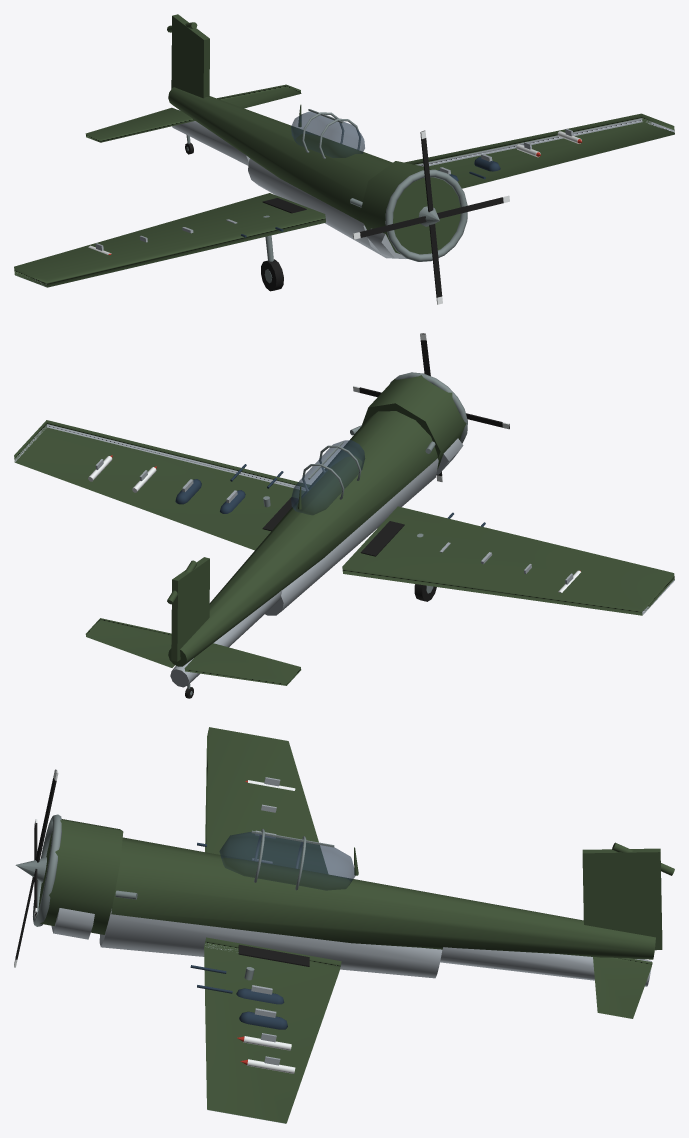
Rendered from a-1-skyraider-spad.glb.
The picture shows the model from 3 angles, top to bottom: view 1: azimuth 30°, elevation 25°; view 2: azimuth 150°, elevation 25°; view 3: azimuth 270°, elevation 25°; orthographic projection. The views are drawn at different scales.
Parts seen in each view (by area): view 1: Mesh_FuselageSpine, Mesh_MainWingRight, Mesh_MainWingLeft, Mesh_CowlBody, Mesh_TailFin, Mesh_FuselageBelly, Mesh_CanopyGlass, Mesh_CowlLip, Mesh_HorizontalTailRight, Mesh_WingUndersideLeft, Mesh_TailConeBelly, Mesh_HorizontalTailLeft (+6 smaller); view 2: Mesh_MainWingRight, Mesh_FuselageSpine, Mesh_MainWingLeft, Mesh_CowlBody, Mesh_FuselageBelly, Mesh_CanopyGlass, Mesh_HorizontalTailRight, Mesh_TailFin, Mesh_HorizontalTailLeft, Mesh_TailConeBelly, Mesh_WingUndersideLeft, Mesh_WingWalkR (+1 smaller); view 3: Mesh_FuselageSpine, Mesh_MainWingLeft, Mesh_MainWingRight, Mesh_FuselageBelly, Mesh_TailFin, Mesh_CowlBody, Mesh_CanopyGlass, Mesh_TailConeBelly, Mesh_HorizontalTailLeft, Mesh_CowlLip, Mesh_CowlBelly, Mesh_WingWalkL.
Boxes of the visible parts, left/top/right/bottom form: Mesh_FuselageSpine: left=168, top=87, right=392, bottom=222; Mesh_MainWingRight: left=14, top=193, right=325, bottom=287; Mesh_MainWingLeft: left=404, top=113, right=674, bottom=188; Mesh_CowlBody: left=359, top=161, right=460, bottom=254; Mesh_TailFin: left=171, top=14, right=209, bottom=98; Mesh_FuselageBelly: left=248, top=158, right=402, bottom=258; Mesh_CanopyGlass: left=291, top=111, right=364, bottom=157; Mesh_CowlLip: left=385, top=169, right=467, bottom=261; Mesh_HorizontalTailRight: left=85, top=107, right=194, bottom=142; Mesh_WingUndersideLeft: left=416, top=118, right=674, bottom=172; Mesh_TailConeBelly: left=172, top=110, right=249, bottom=165; Mesh_HorizontalTailLeft: left=217, top=84, right=301, bottom=108; Mesh_MainWingRight: left=342, top=506, right=674, bottom=615; Mesh_FuselageSpine: left=168, top=411, right=437, bottom=666; Mesh_MainWingLeft: left=14, top=420, right=310, bottom=550; Mesh_CowlBody: left=362, top=375, right=466, bottom=469; Mesh_FuselageBelly: left=265, top=458, right=438, bottom=615; Mesh_CanopyGlass: left=291, top=440, right=364, bottom=514; Mesh_HorizontalTailRight: left=184, top=643, right=301, bottom=685; Mesh_TailFin: left=171, top=557, right=209, bottom=661; Mesh_HorizontalTailLeft: left=85, top=618, right=174, bottom=667; Mesh_TailConeBelly: left=170, top=590, right=281, bottom=687; Mesh_WingUndersideLeft: left=15, top=424, right=305, bottom=490; Mesh_WingWalkR: left=360, top=521, right=404, bottom=556; Mesh_FuselageSpine: left=111, top=837, right=655, bottom=959; Mesh_MainWingLeft: left=204, top=937, right=341, bottom=1123; Mesh_MainWingRight: left=205, top=727, right=327, bottom=873; Mesh_FuselageBelly: left=99, top=909, right=442, bottom=978; Mesh_TailFin: left=582, top=848, right=662, bottom=950; Mesh_CowlBody: left=38, top=819, right=123, bottom=934; Mesh_CanopyGlass: left=219, top=832, right=355, bottom=890; Mesh_TailConeBelly: left=440, top=947, right=651, bottom=986; Mesh_HorizontalTailLeft: left=593, top=957, right=652, bottom=1018; Mesh_CowlLip: left=33, top=814, right=61, bottom=926; Mesh_CowlBelly: left=51, top=908, right=94, bottom=939; Mesh_WingWalkL: left=238, top=944, right=309, bottom=966.
Size of the model in its own units: 14.7 by 4.33 by 11.01.
Materials: 2 (2 with a texture image).
